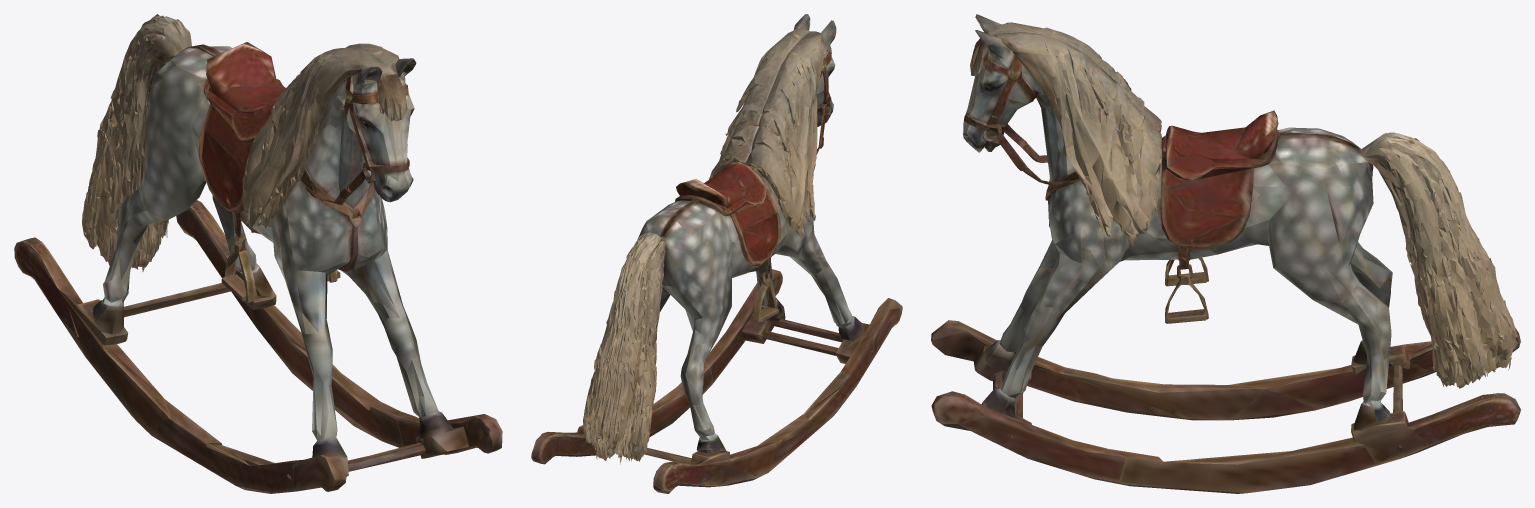
File: rocking-horse.glb
3 views of the same model, side by side, from view 1: azimuth 30°, elevation 25°; view 2: azimuth 150°, elevation 25°; view 3: azimuth 270°, elevation 25° (orthographic). The views are drawn at different scales.
Bounding box in the file's own units: 0.6172 × 1.53 × 1.89.
1 material, 1 textured.
